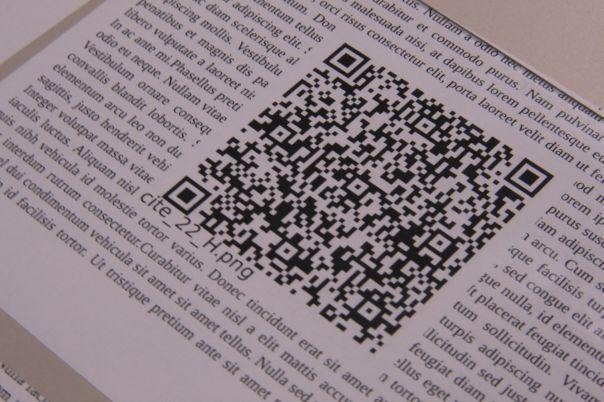Finder pattern: (503, 156, 554, 200), (324, 43, 373, 79), (164, 179, 209, 215)
